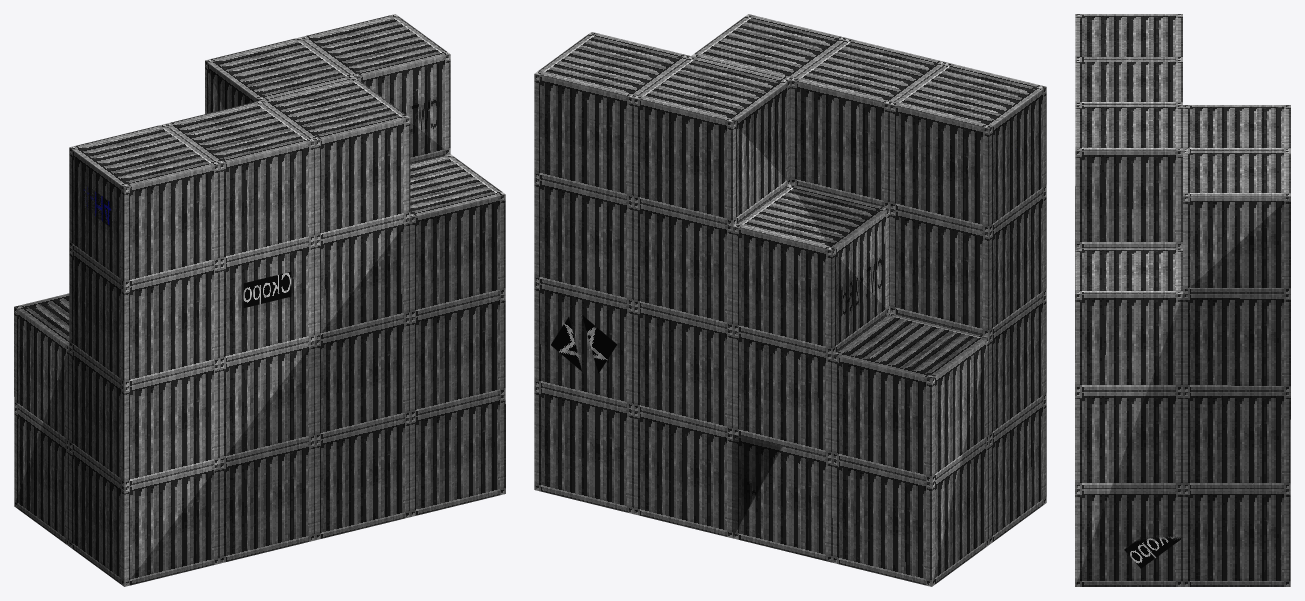
File: primary_085.glb
The picture shows the model from 3 angles, left to right: view 1: azimuth 30°, elevation 25°; view 2: azimuth 150°, elevation 25°; view 3: azimuth 270°, elevation 25°; orthographic projection. The views are drawn at different scales.
Visible parts, largest first — view 1: Object; view 2: Object; view 3: Object.
Boxes of the visible parts, <box> form: Object: <box>14,14,505,586</box>; Object: <box>534,14,1046,586</box>; Object: <box>1075,14,1290,586</box>.
Size of the model in its own units: 5.8 by 5.8 by 2.9.
8 materials, 8 textured.
